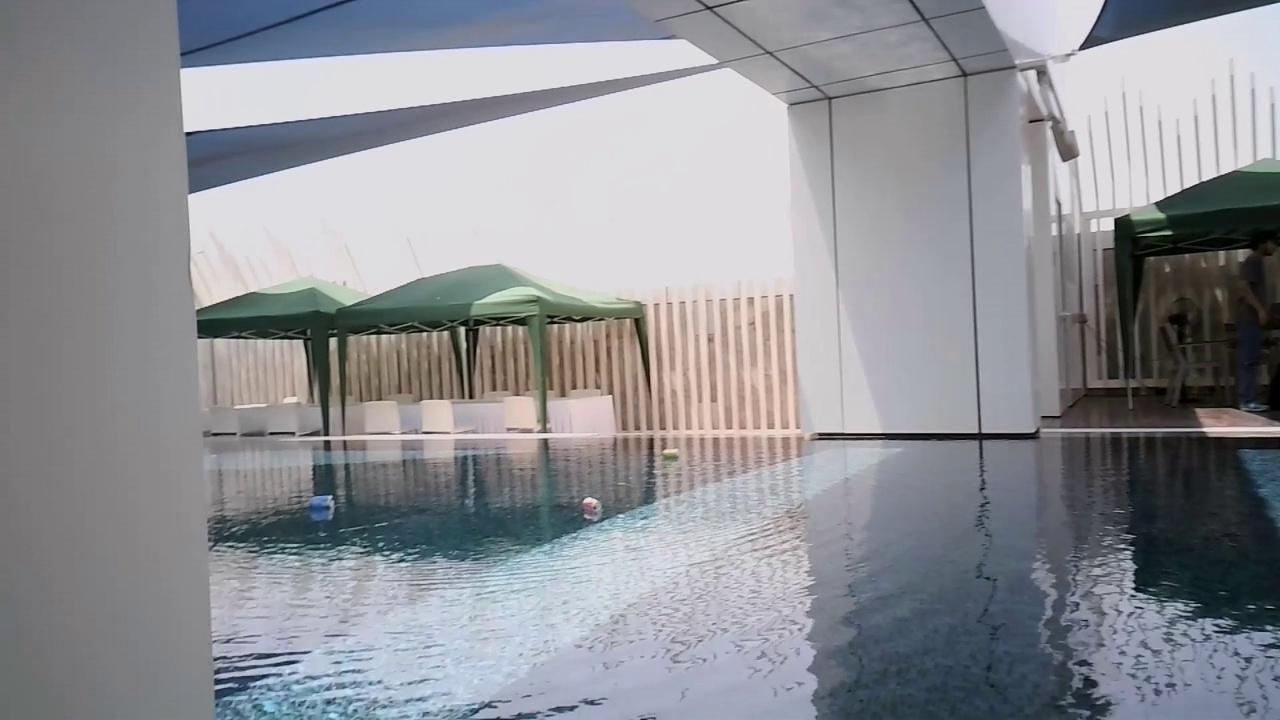debris: (305, 489, 339, 514), (660, 443, 682, 464), (582, 492, 601, 516)
